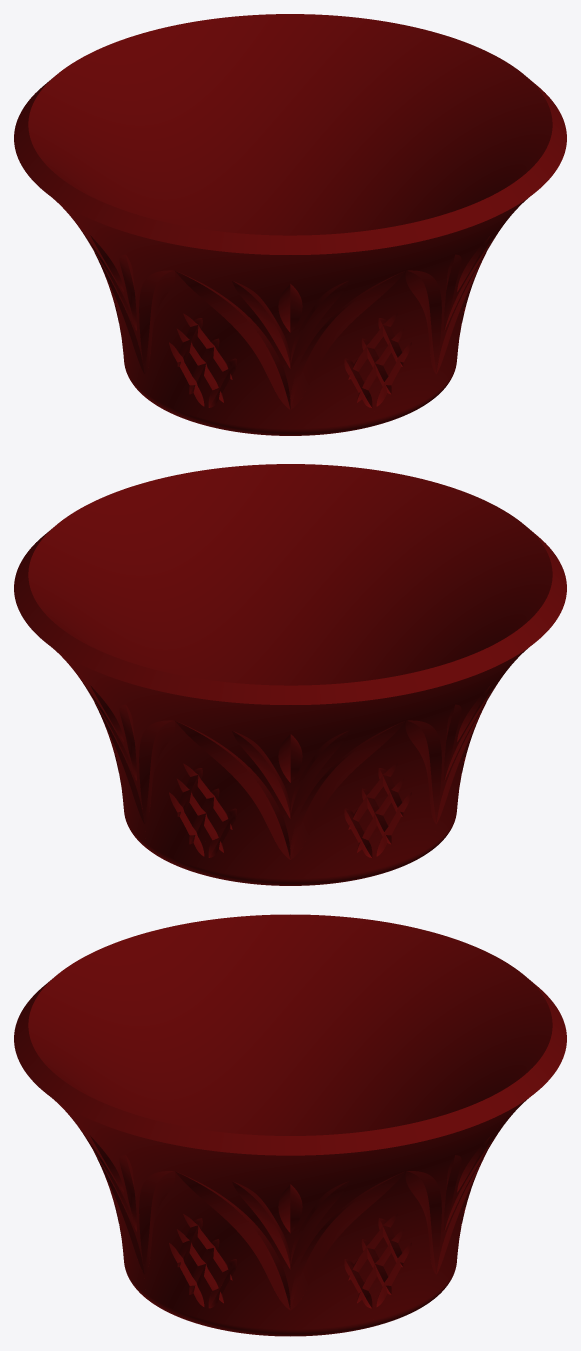
The picture shows the model from 3 angles, top to bottom: view 1: azimuth 30°, elevation 25°; view 2: azimuth 150°, elevation 25°; view 3: azimuth 270°, elevation 25°; orthographic projection.
Bounding box in the file's own units: 0.08 × 0.0392 × 0.08.
